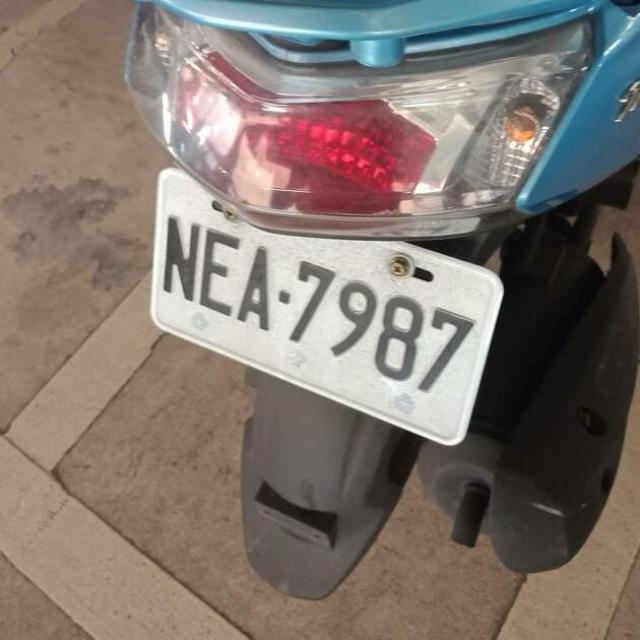W: (129, 194, 516, 450)
